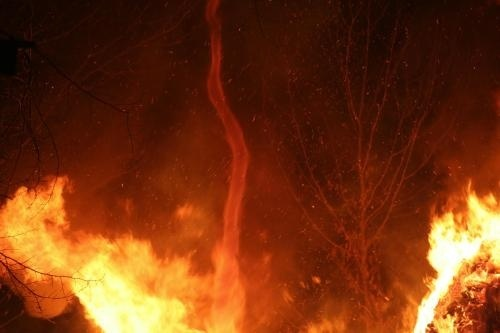fire: (0, 166, 252, 330), (411, 178, 500, 328)
